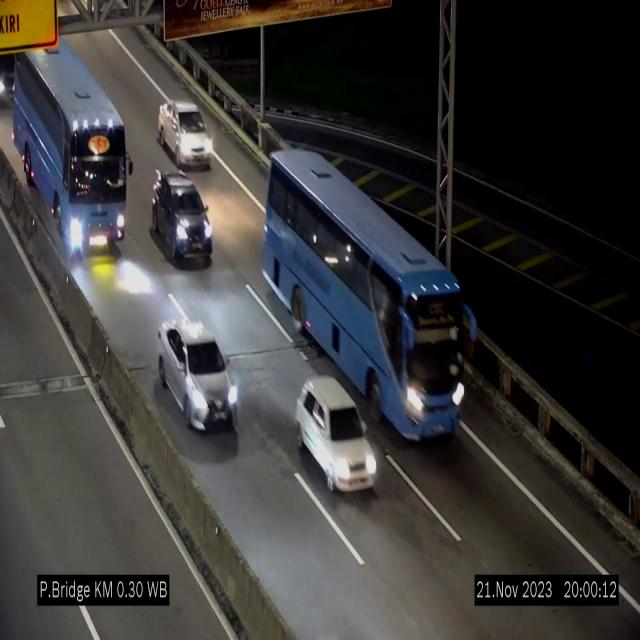Bus: (259, 146, 475, 446), (11, 34, 131, 250)
Car: (294, 377, 378, 492), (158, 320, 239, 432), (152, 171, 212, 262), (158, 100, 214, 168)
